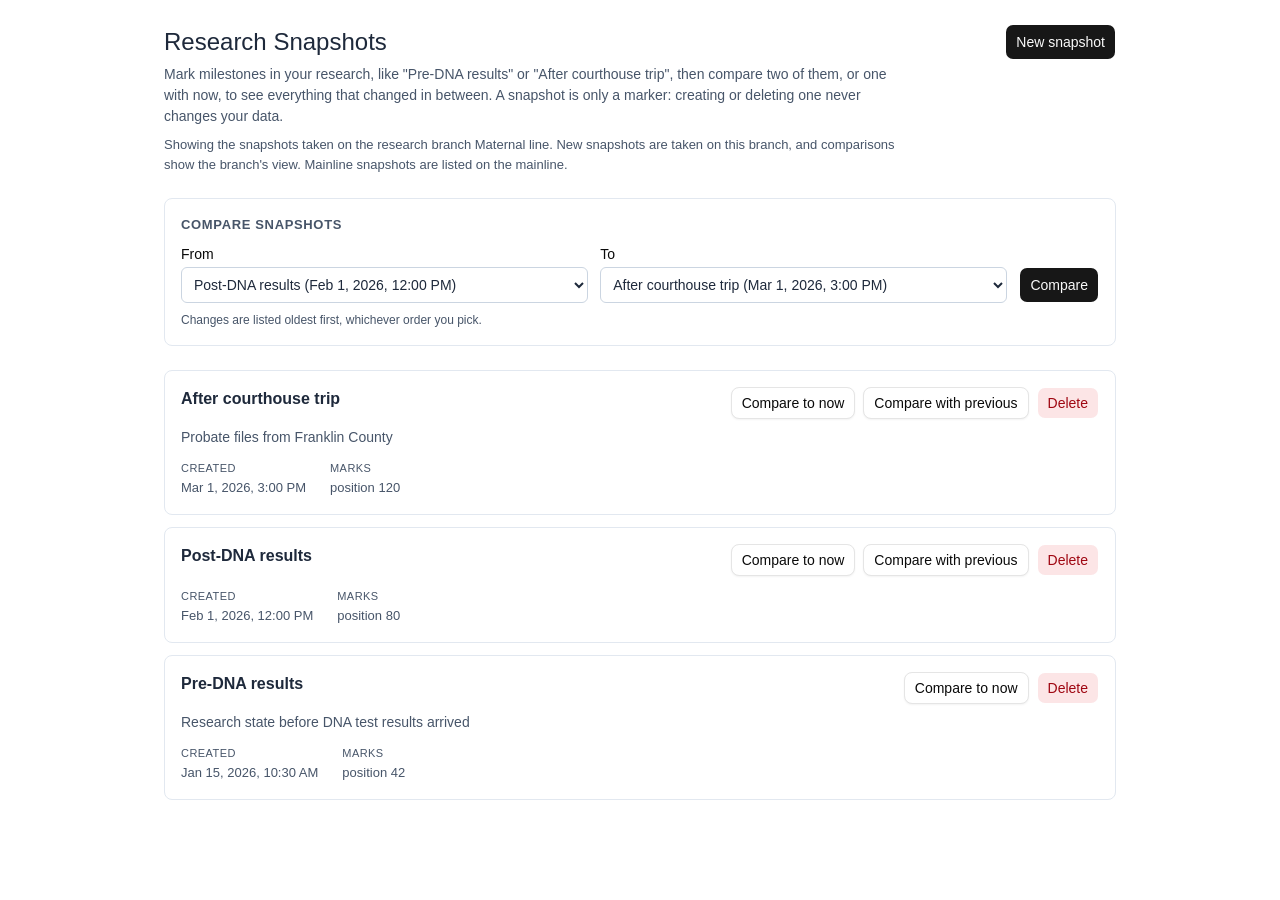
Snapshots page › shows no mainline notice on a branch, and says whose snapshots these are
Expected: the heading "Pre-DNA results" is shown, [181,672,303,696]
Click the button "New snapshot" at (1061, 42), box [1005,24,1116,60]
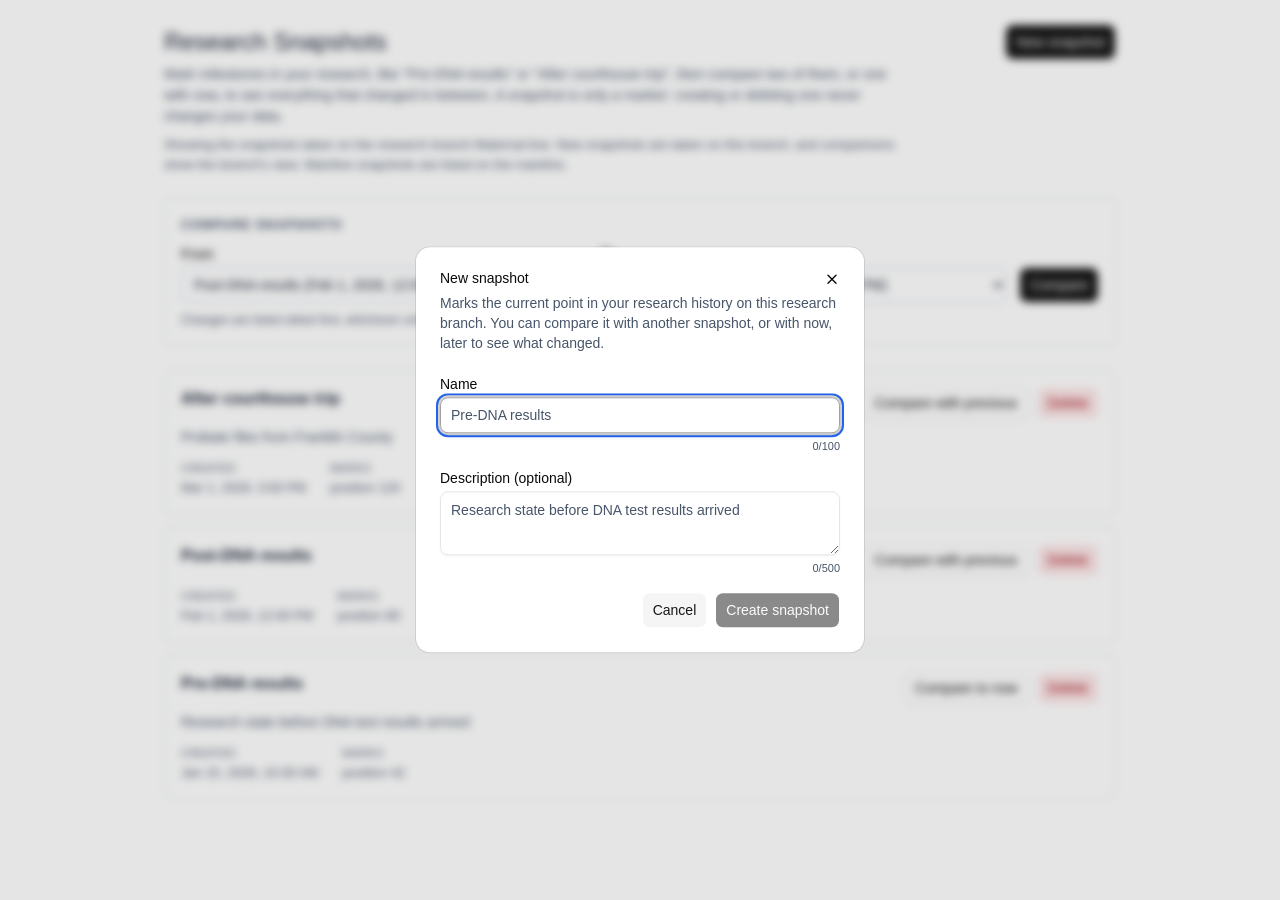
Now the text "on this research branch" is shown, box [440,295,836,351]
